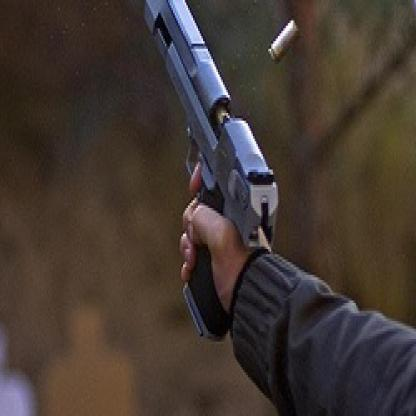gun: (140, 0, 276, 349)
